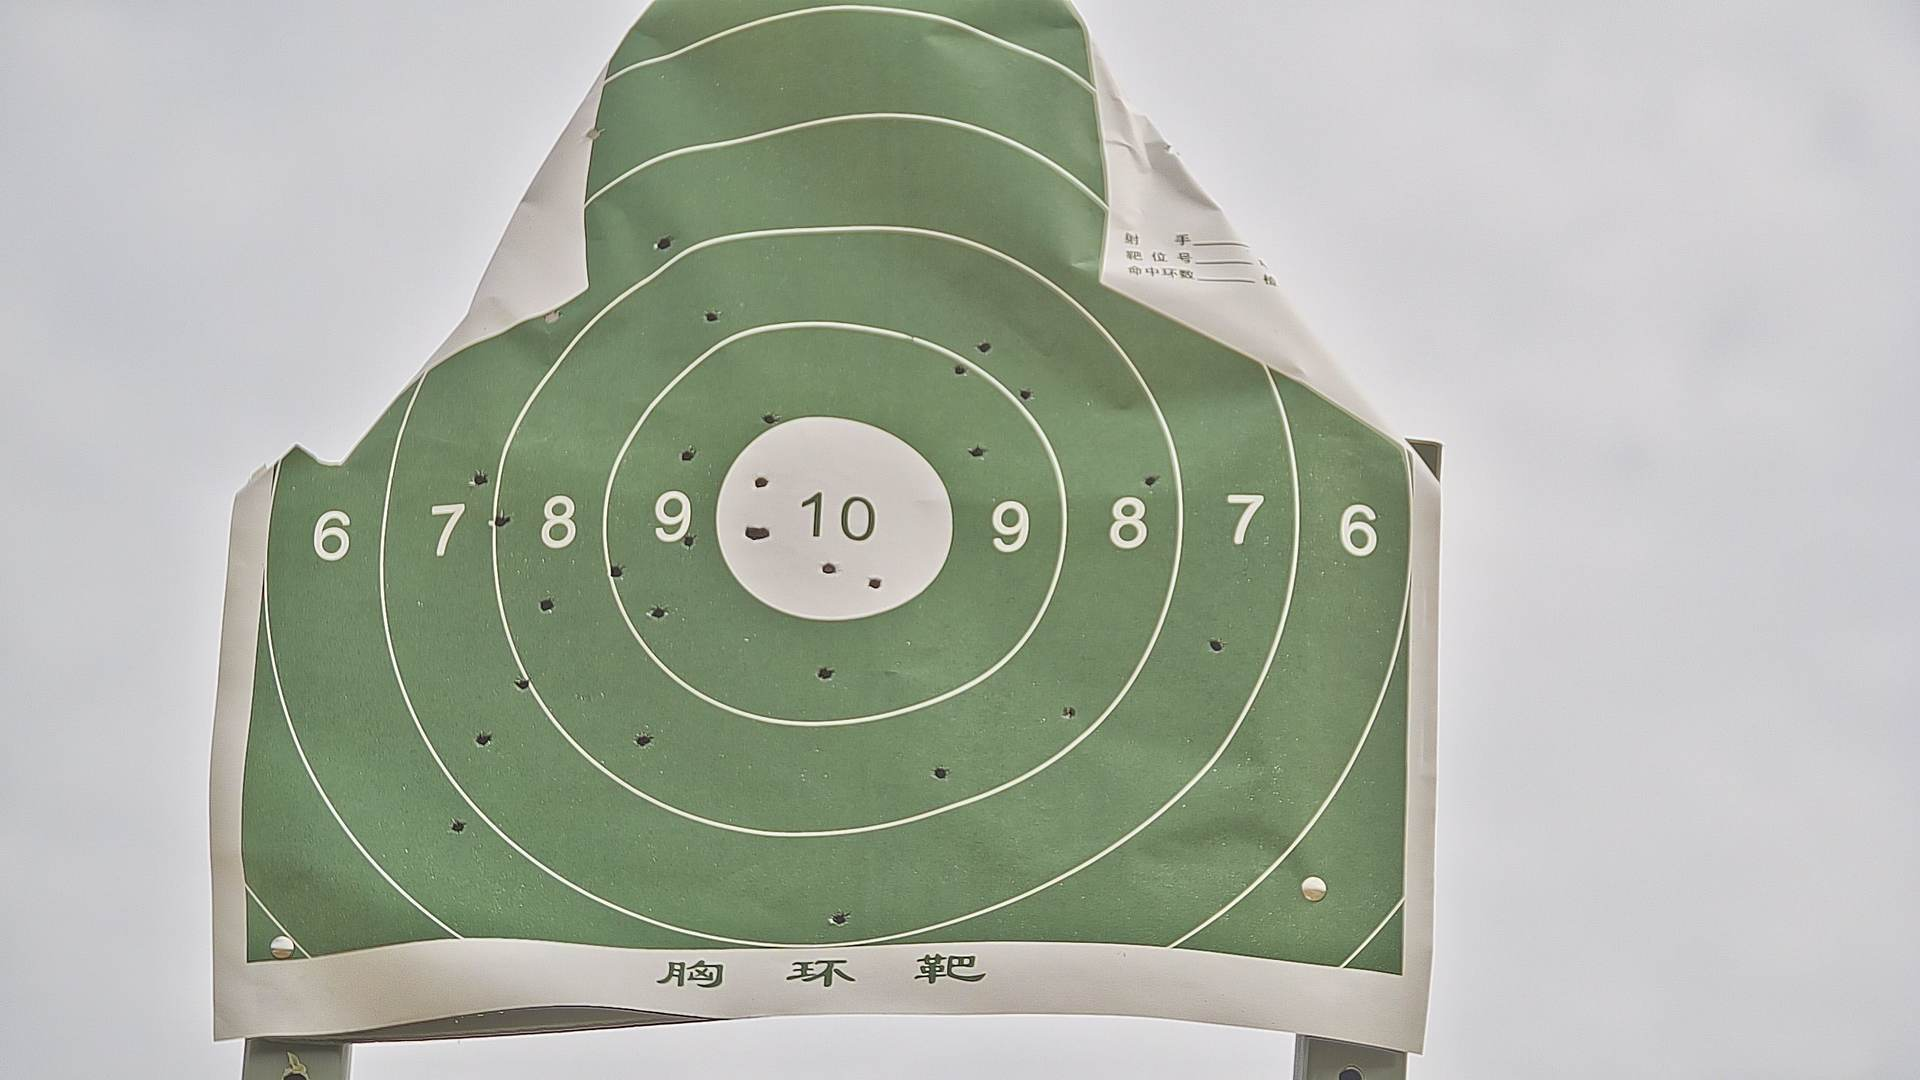hole: (543, 309, 566, 323), (633, 733, 655, 746), (703, 310, 723, 324), (829, 913, 849, 927), (1021, 388, 1036, 405), (969, 444, 986, 460), (650, 607, 669, 621), (1207, 637, 1225, 651), (475, 731, 491, 746), (472, 472, 489, 487), (539, 596, 554, 613), (682, 533, 696, 549), (934, 766, 949, 781), (1062, 704, 1076, 720), (820, 562, 837, 575), (818, 667, 835, 680), (744, 524, 756, 542), (589, 127, 604, 141), (977, 339, 992, 353), (953, 363, 968, 377), (450, 819, 464, 833), (757, 527, 771, 542), (516, 679, 531, 692), (493, 516, 510, 527), (655, 237, 674, 248), (764, 411, 778, 425), (611, 564, 624, 579), (1145, 475, 1158, 488), (754, 476, 769, 488), (868, 578, 882, 589), (680, 450, 694, 462)
kernel: (827, 513, 836, 522)
target: (243, 1, 1408, 967)
ten: (713, 413, 959, 625)
